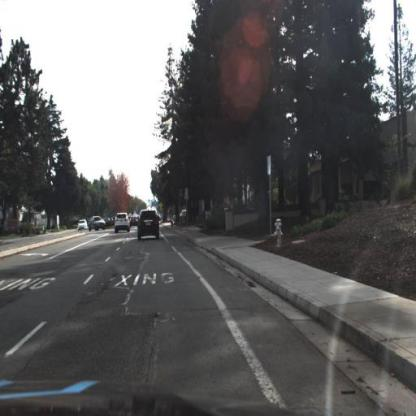car: (137, 209, 159, 238), (87, 210, 106, 232), (114, 212, 130, 235), (78, 219, 86, 230)
